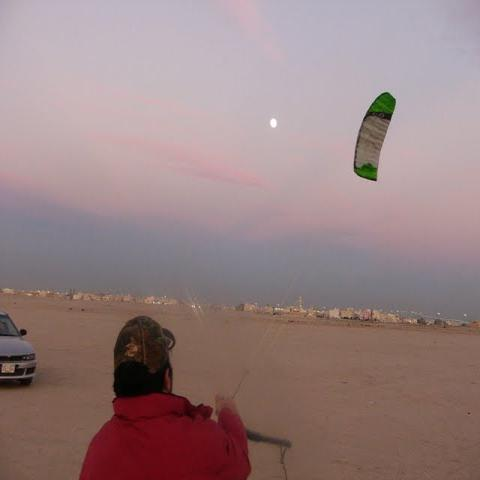car: (1, 312, 36, 386)
